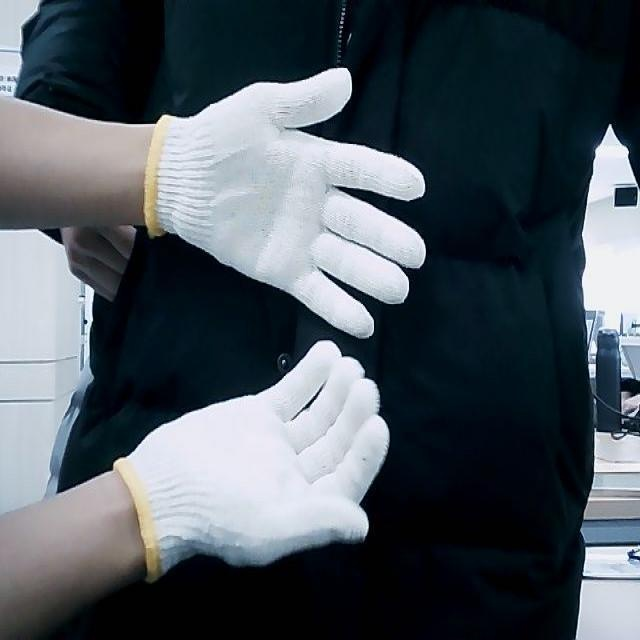Guantes: (145, 64, 422, 332), (116, 340, 395, 585)
